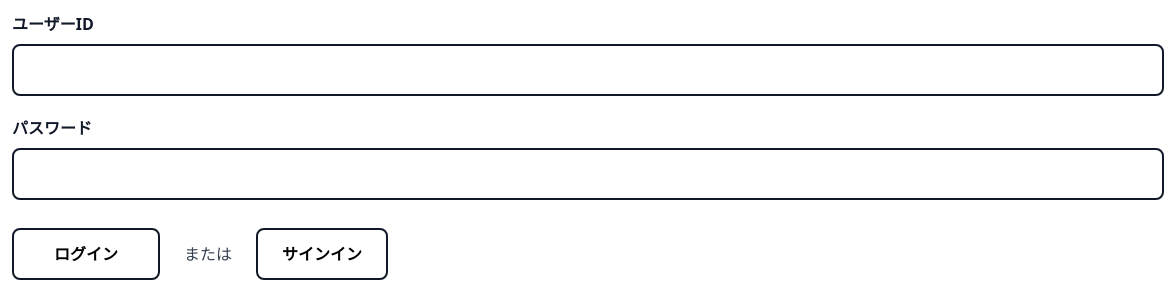
Scenario: LoginForm › 送信中は「ログイン中…」を表示してボタンを無効にし、追加クリックで再送しない
Type "Alice_1" into the field labelled "ユーザーID" at (588,70), box [12,44,1164,96]
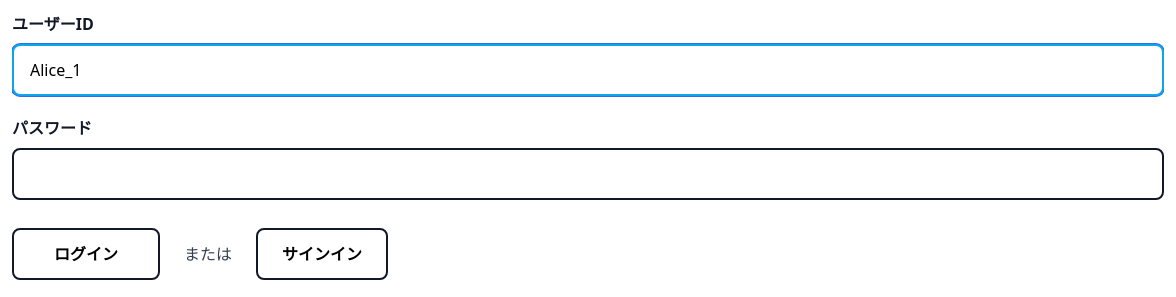
Type "password123" into the password field labelled "パスワード" at (588,174), box [12,148,1164,200]
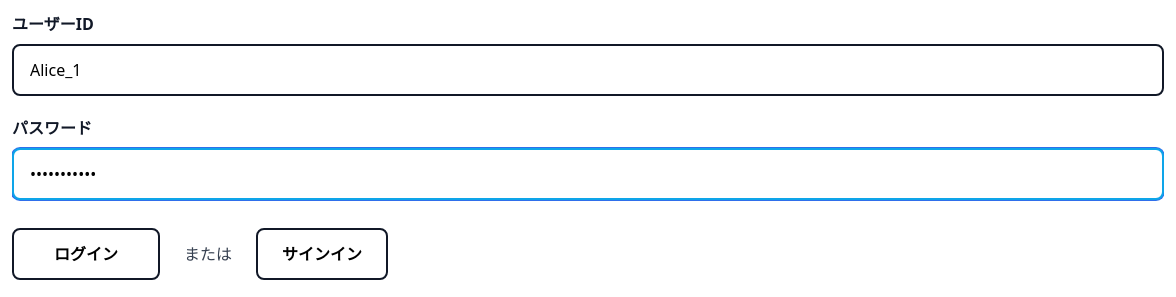
Click the button "ログイン" at (86,254), box [12,228,160,280]
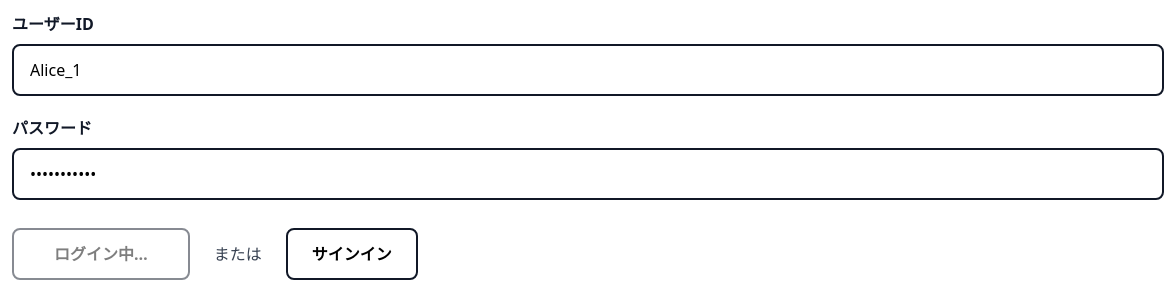
Result: the button "ログイン中…" is disabled
Click the button "ログイン中…" at (101,254), box [12,228,190,280]
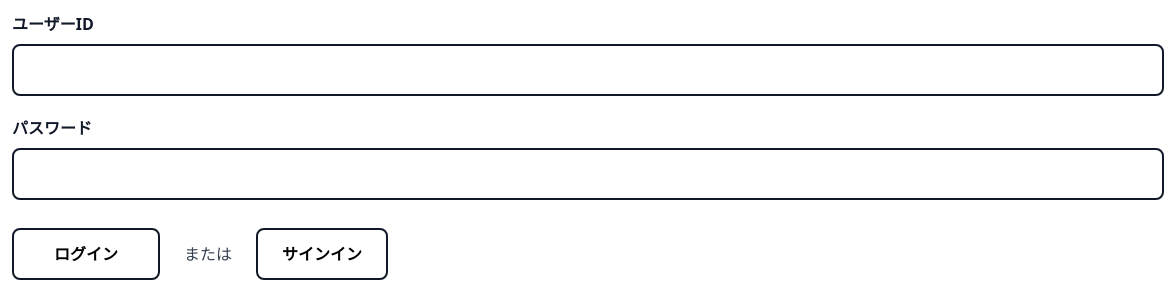
Result: the button "ログイン" is enabled at [12,228,160,280]
